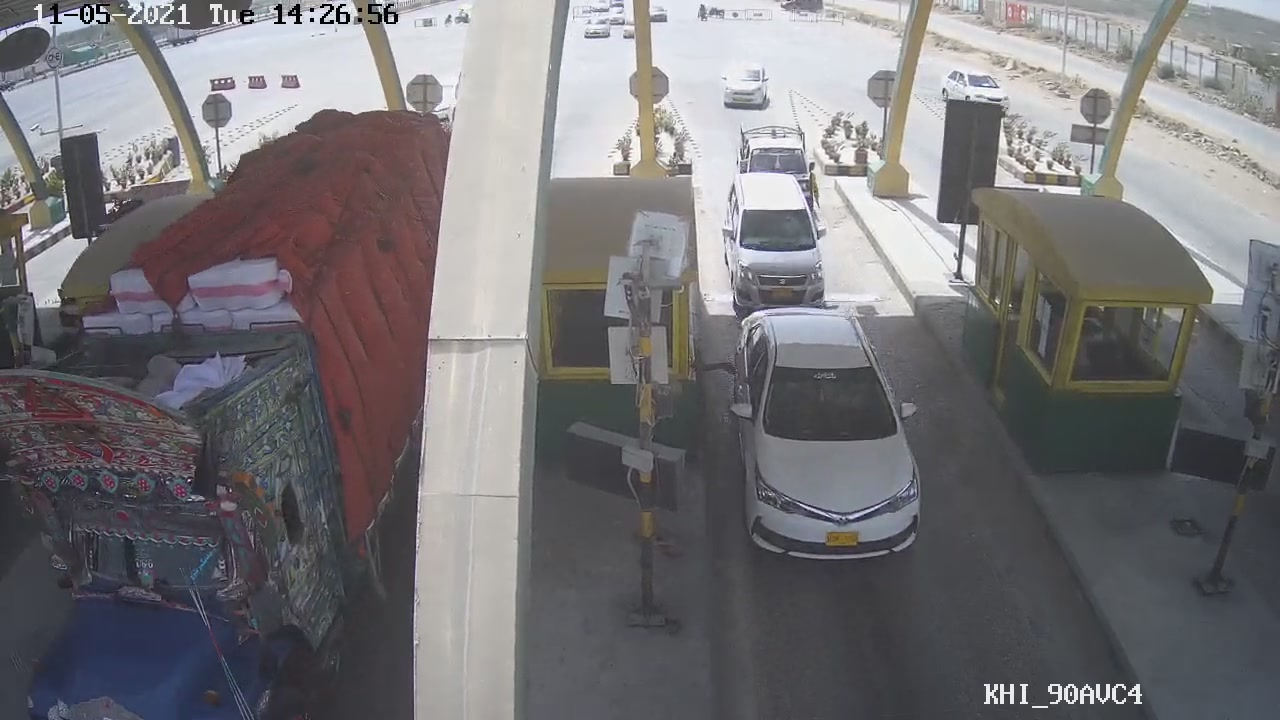F1: (721, 301, 931, 569)
